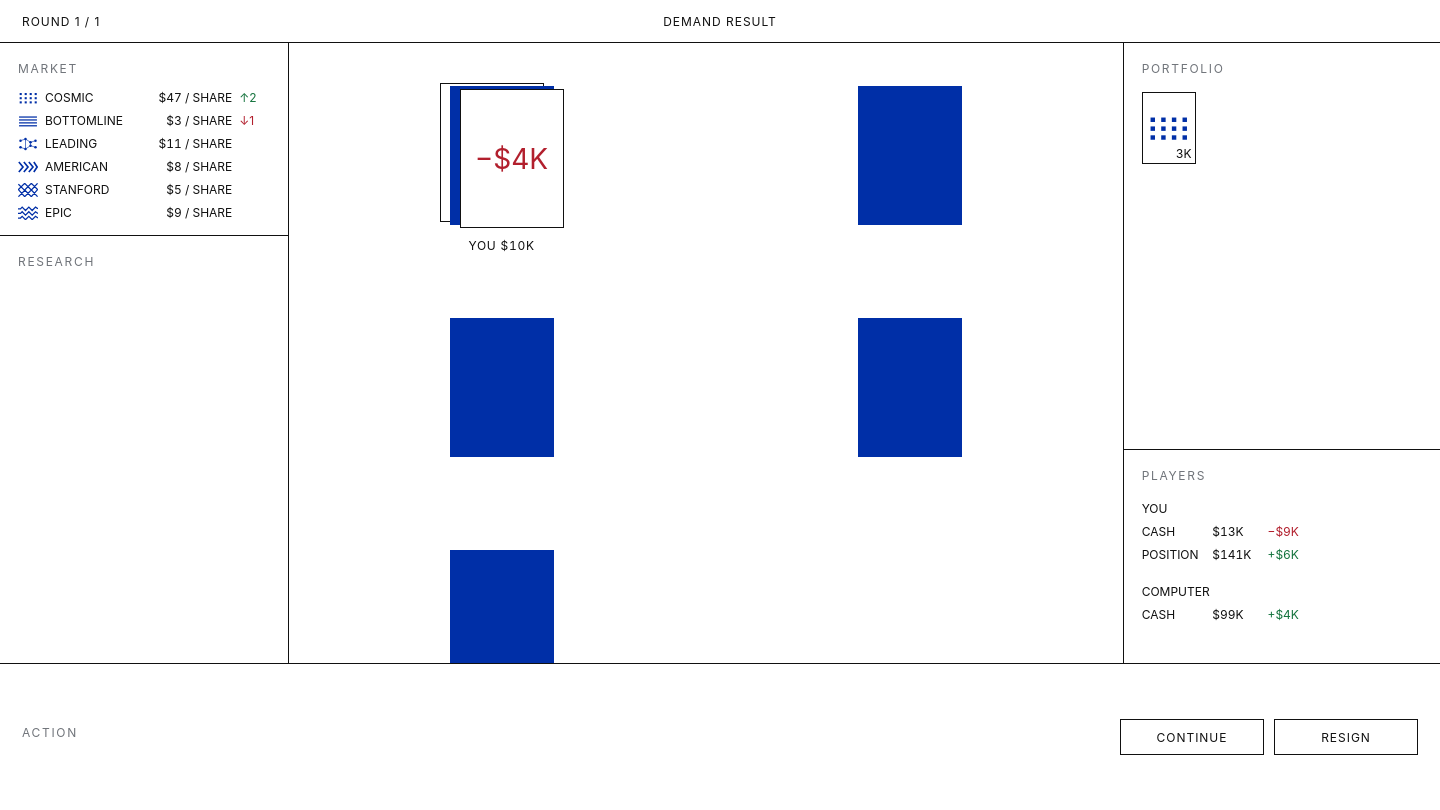
Test: disciplined Stockpile Trainer game surface › holds checkpoints until CONTINUE and provides a presentation-only BACK before a human decision
The width and height of the screenshot is (1440, 810).
Step 1. Click the button "CONTINUE" → point(1192, 737), box [1120, 719, 1264, 755]
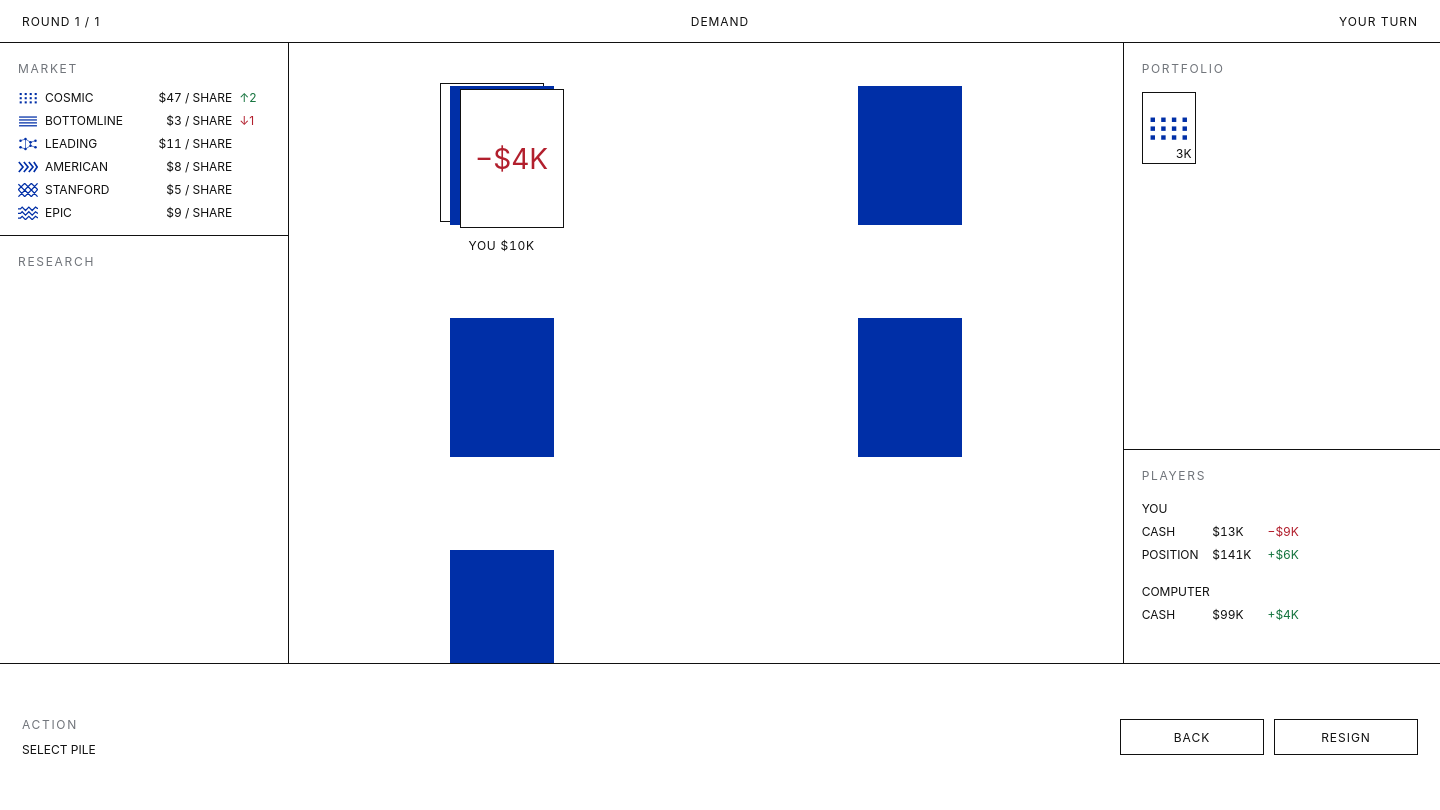
Step 2. Click the button "BACK" → point(1192, 737), box [1120, 719, 1264, 755]
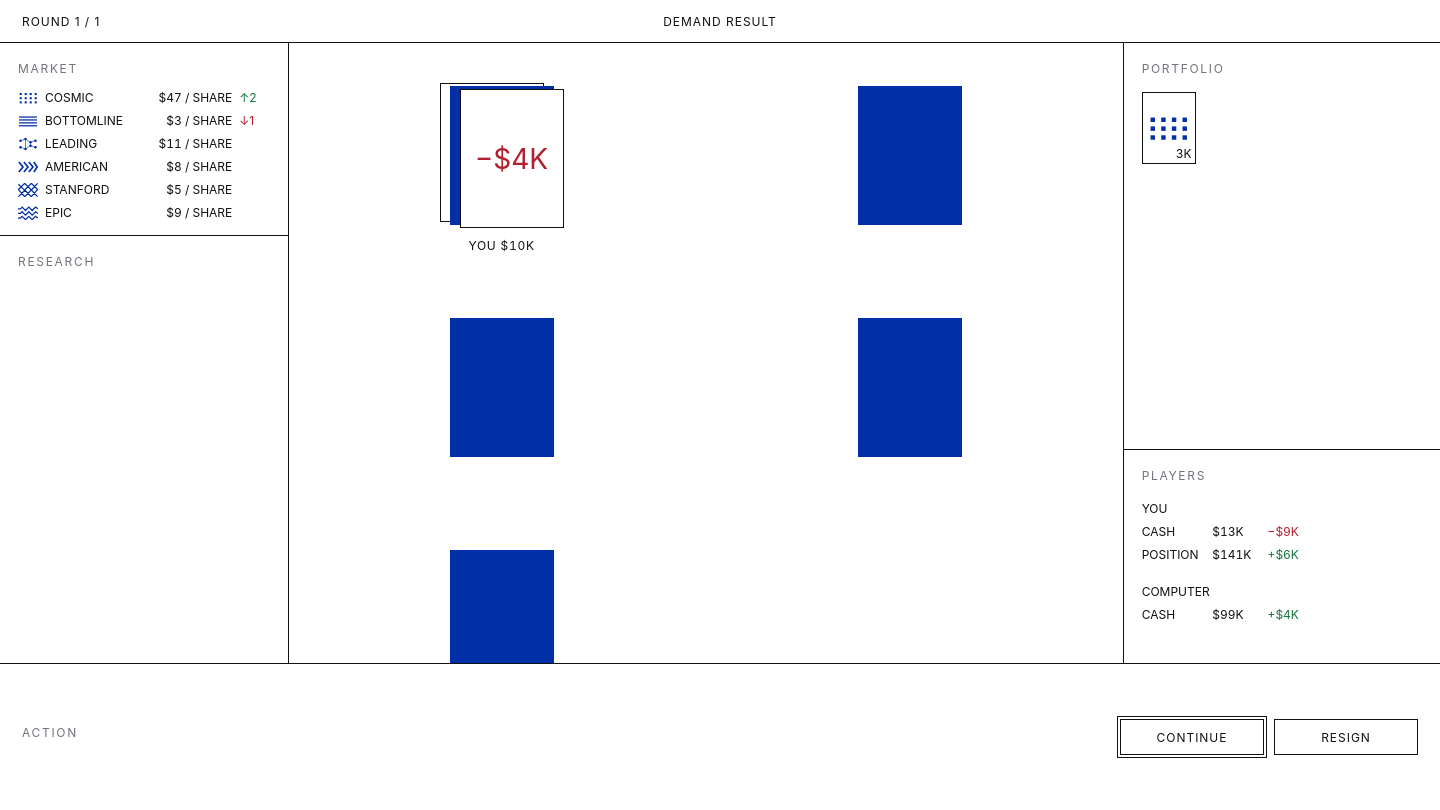
Result: the text "DEMAND RESULT" is shown at [663, 14, 777, 28]
Step 3. Click the button "CONTINUE" → point(1192, 737), box [1120, 719, 1264, 755]
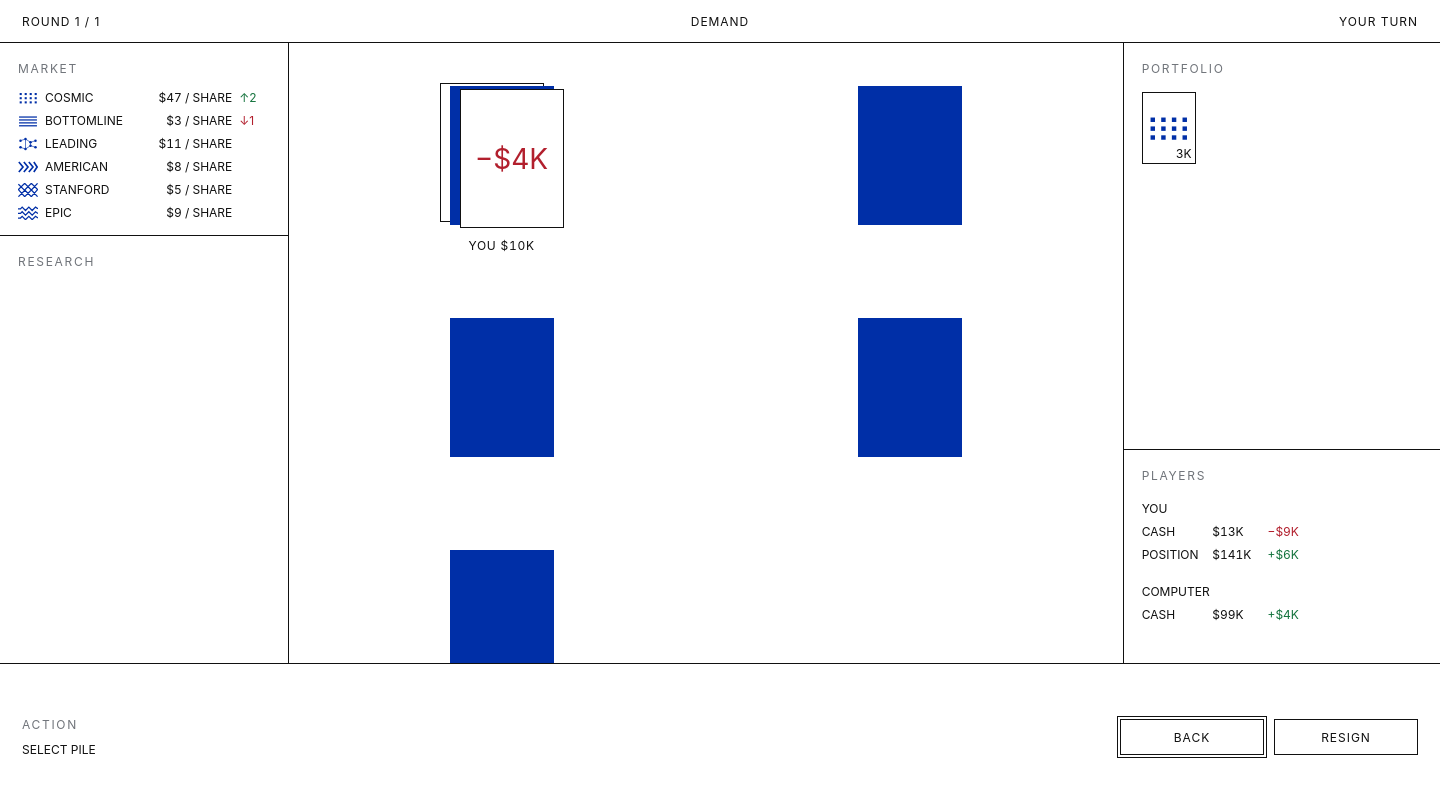
Result: the button "BACK" is shown at [1120, 719, 1264, 755]
